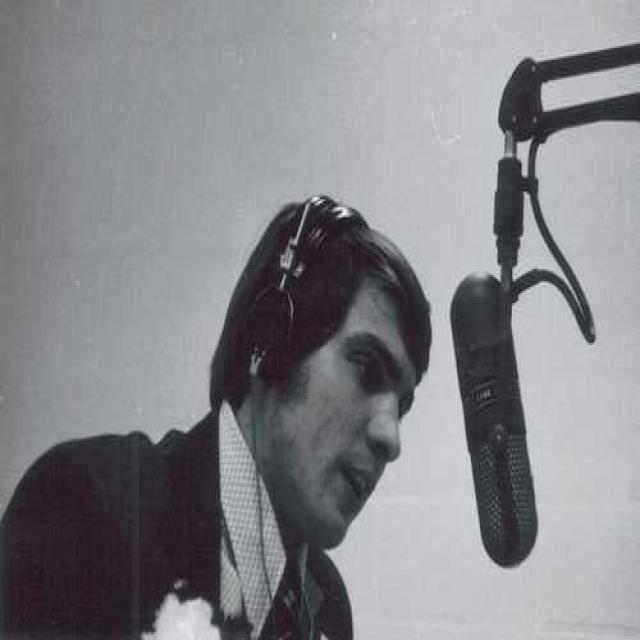microphone: (450, 271, 538, 574)
